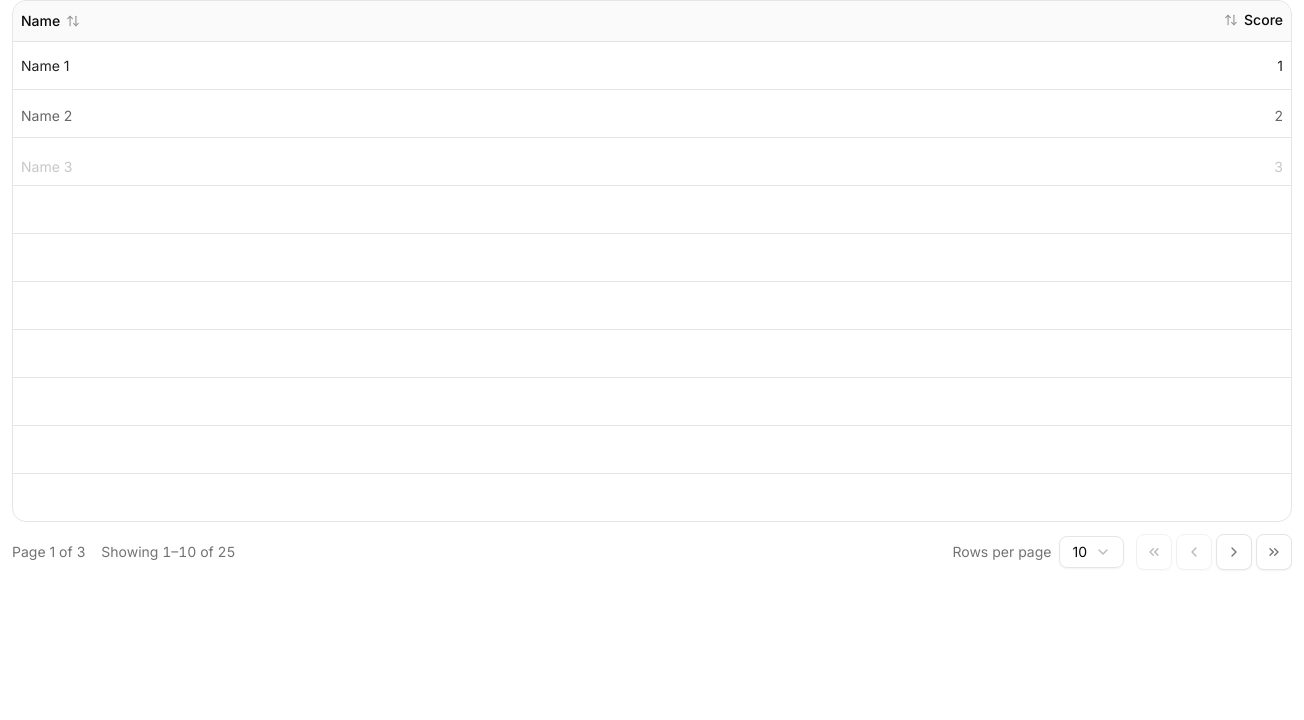
Test: <DataTable /> — pager integration (usePagination) › reports the visible row range
Expected: the text "Showing 1–10 of 25" is shown, x1=101 y1=542 x2=236 y2=562
Click the button named "Last page" at (1274, 552), box x1=1256 y1=534 x2=1292 y2=570
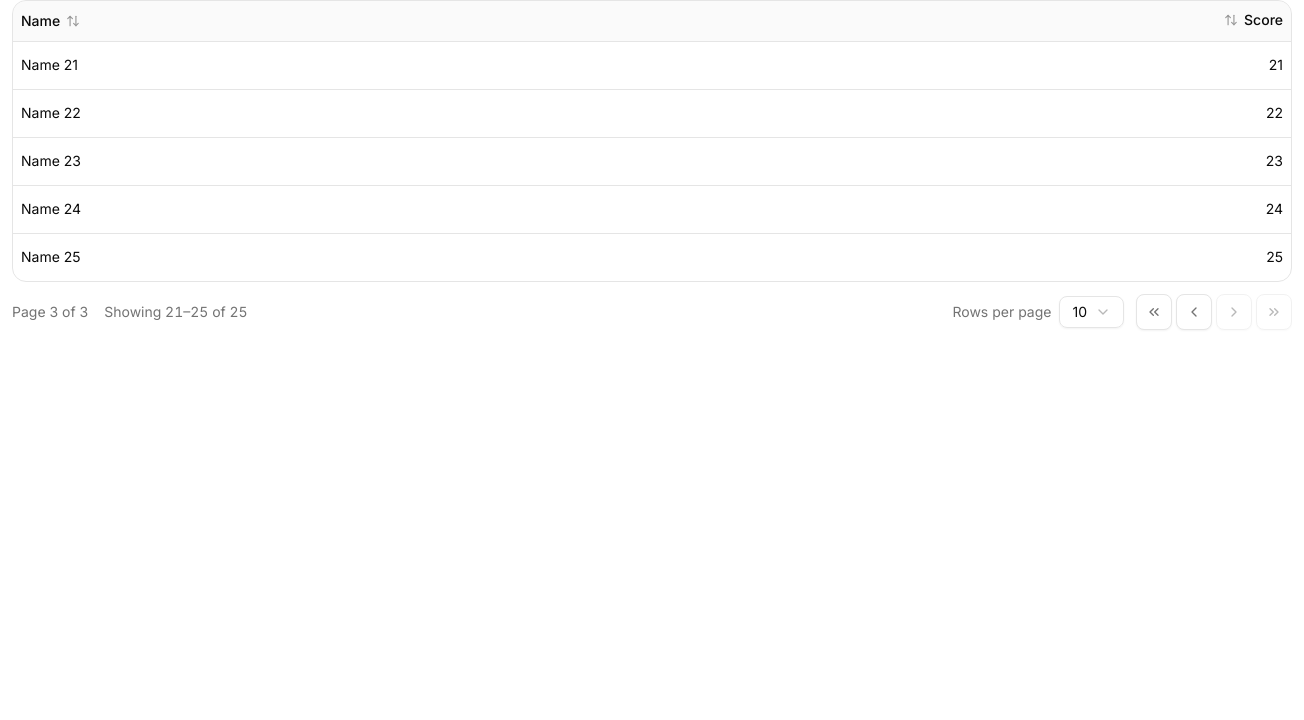
Result: the text "Showing 21–25 of 25" is shown at x1=104 y1=302 x2=248 y2=322
